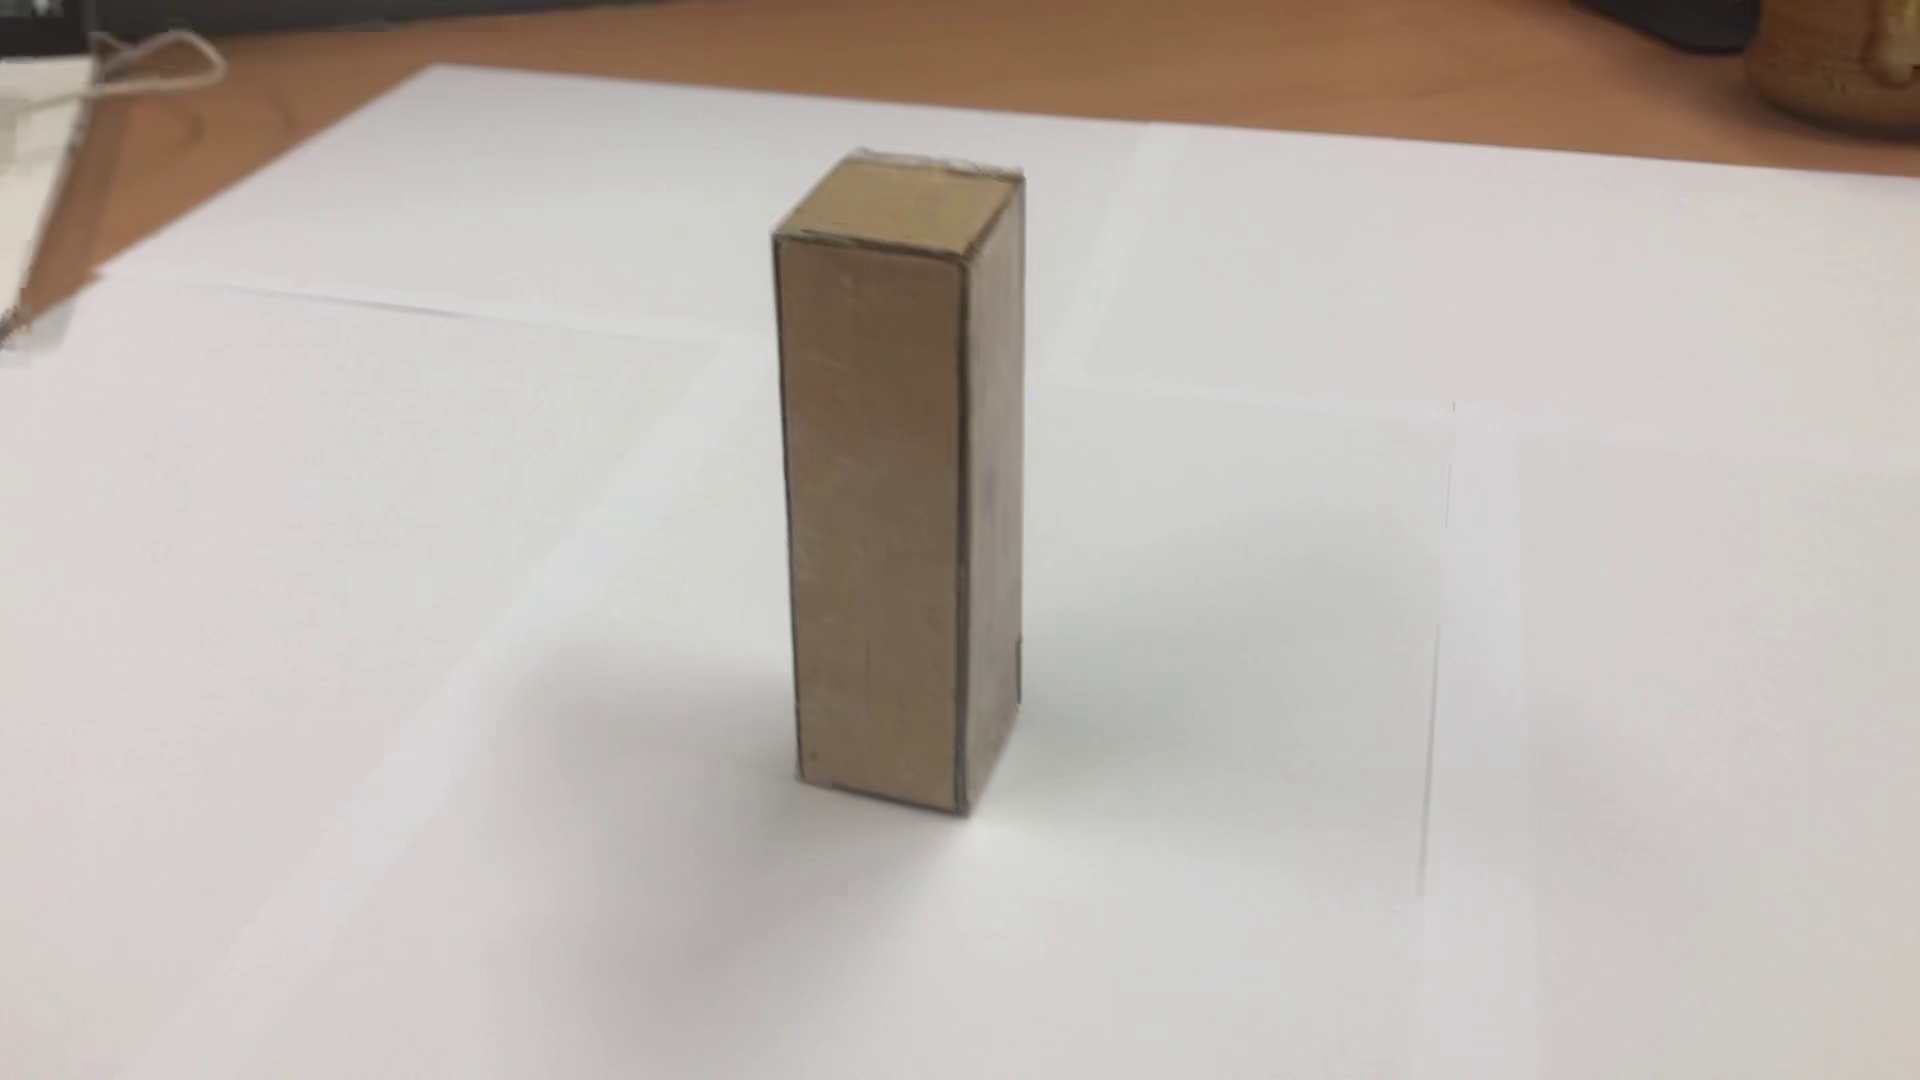box: (760, 131, 1063, 831)
